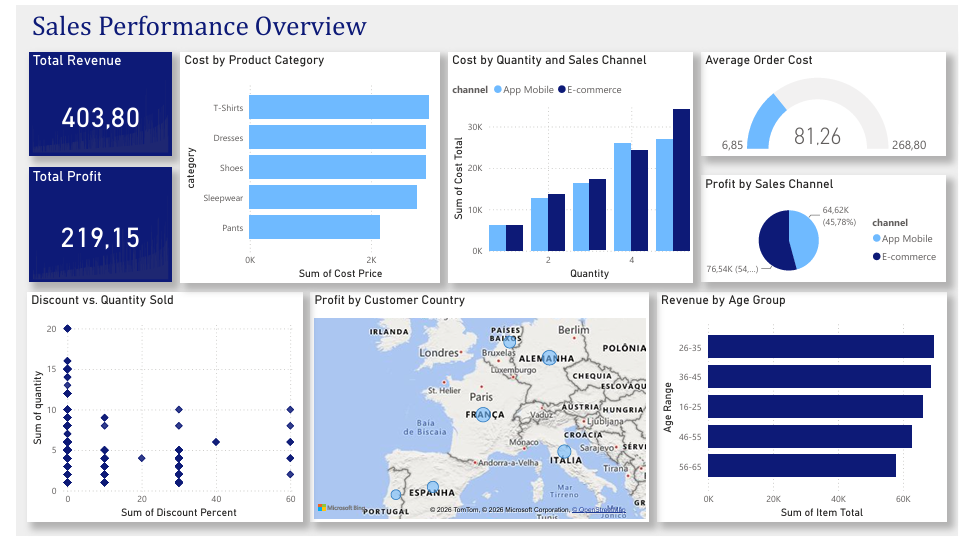

This screenshot's page, from the dashboard's own definition file:
{"tool":"powerbi","page":{"name":"Page 1","canvas":[1280,720],"ordinal":0},"visuals":[{"type":"kpi","title":"Total Revenue","fields":{"Indicator":["Sum(public fact_sales.item_total)"],"TrendLine":["public fact_sales.item_total"]},"box":[17.1,62.9,204.3,141.4],"z":0},{"type":"kpi","title":"Total Profit","fields":{"Indicator":["Sum(public fact_sales.profit)"],"TrendLine":["public fact_sales.profit"]},"box":[17.1,231.4,204.3,144.3],"z":1000},{"type":"barChart","title":"Revenue by Age Group","fields":{"Category":["public dim_customer.age_range"],"Y":["Sum(public fact_sales.item_total)"]},"box":[892,390,388,312],"z":2000},{"type":"map","title":"Profit by Customer Country","fields":{"Category":["public dim_customer.country_customers"],"Size":["Sum(public fact_sales.profit)"]},"box":[400,388.8,471.2,312.5],"z":3000},{"type":"scatterChart","title":"Discount vs. Quantity Sold","fields":{"Y":["Sum(public fact_sales.quantity)"],"X":["Sum(public fact_sales.discount_percent)"],"Category":["public fact_sales.item_total"]},"box":[15,388.8,373.8,312.5],"z":4000},{"type":"pieChart","title":"Profit by Sales Channel","fields":{"Series":["public fact_sales.channel"],"Y":["Sum(public fact_sales.profit)"]},"box":[947.1,218.6,332.9,157.1],"z":5000},{"type":"barChart","title":"Cost by Product Category","fields":{"Y":["Sum(public dim_product.cost_price)"],"Category":["public dim_product.category"]},"box":[234.3,62.9,352.9,312.9],"z":6000},{"type":"gauge","title":"Average Order Cost","fields":{"Y":["Avg(public fact_sales.cost_total)"],"MinValue":["Min(public fact_sales.cost_total)"],"MaxValue":["Max(public fact_sales.cost_total)"]},"box":[947.1,62.9,332.9,141.4],"z":7000},{"type":"clusteredColumnChart","title":"Cost by Quantity and Sales Channel","fields":{"Y":["Sum(public fact_sales.cost_total)"],"Series":["public fact_sales.channel"],"Category":["public fact_sales.quantity"]},"box":[598.6,62.9,332.9,312.9],"z":8000},{"type":"textbox","box":[16,0,722,76],"z":8001}]}

Visuals, with their boxes in screenshot pixels (x1, y1, x2, y2), scaled from the page's 1280x720 canvas onto the 974x554 screenshot:
"Total Revenue" kpi: 13, 48, 168, 157
"Total Profit" kpi: 13, 178, 168, 289
"Revenue by Age Group" barChart: 679, 300, 973, 540
"Profit by Customer Country" map: 304, 299, 663, 540
"Discount vs. Quantity Sold" scatterChart: 11, 299, 296, 540
"Profit by Sales Channel" pieChart: 721, 168, 973, 289
"Cost by Product Category" barChart: 178, 48, 447, 289
"Average Order Cost" gauge: 721, 48, 973, 157
"Cost by Quantity and Sales Channel" clusteredColumnChart: 455, 48, 709, 289
textbox: 12, 0, 562, 58
